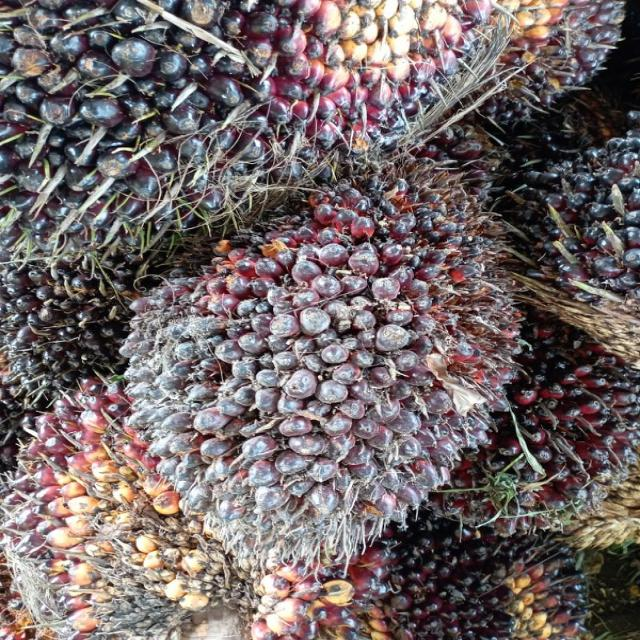fraksi 1: (107, 138, 563, 583)
